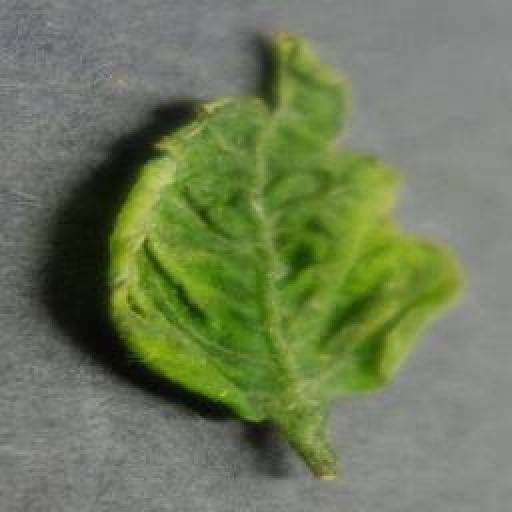disease_tomato: (102, 26, 464, 422)
